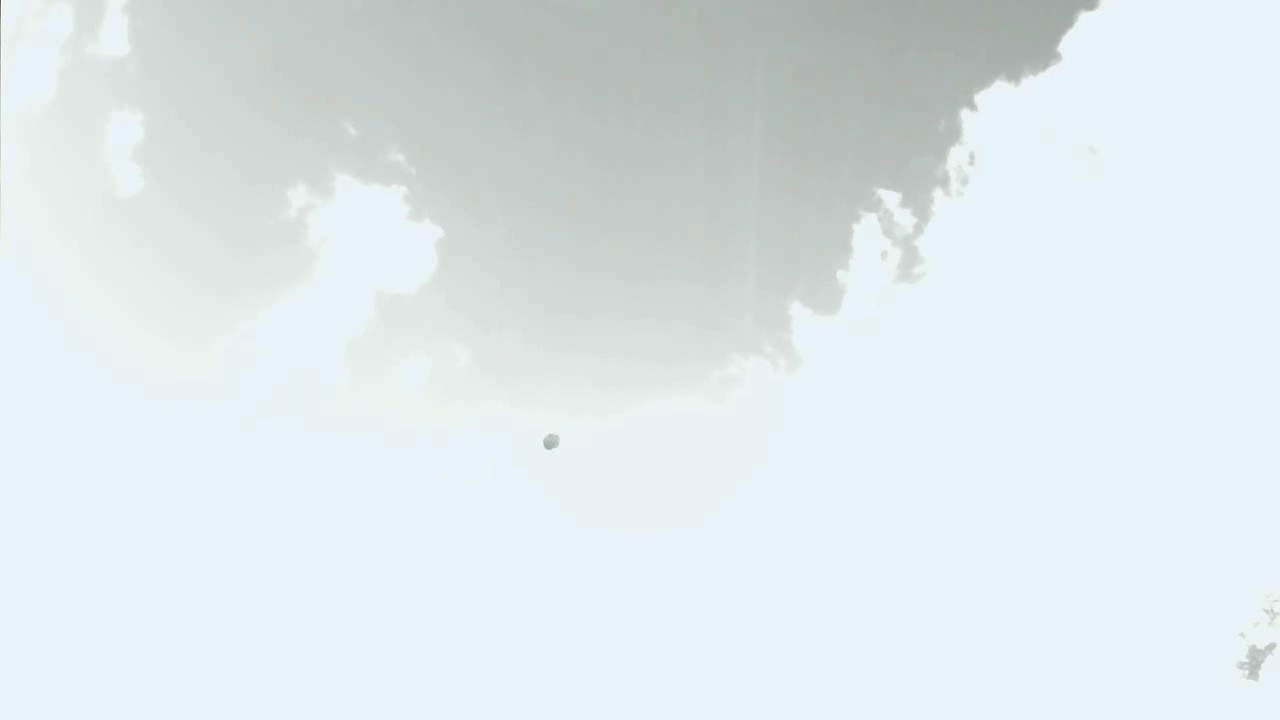Football-Spotter: (542, 433, 559, 449)
